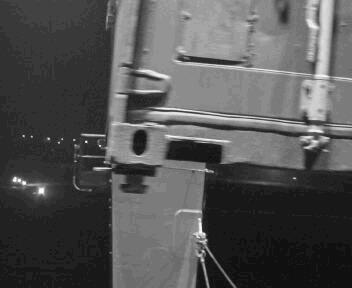twist_lock_1: (109, 159, 165, 198)
